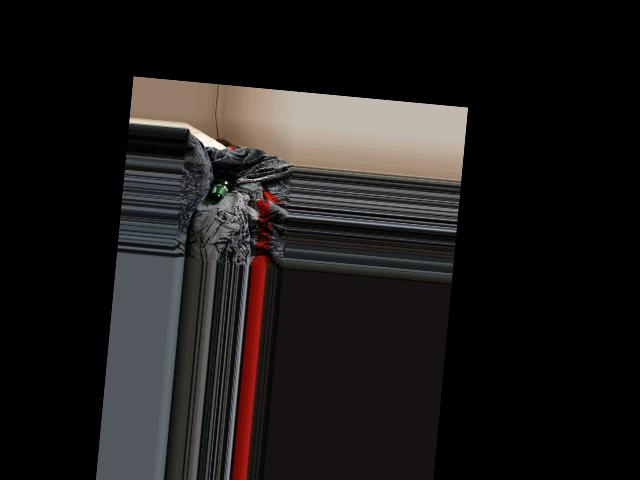beer: (208, 170, 234, 204)
